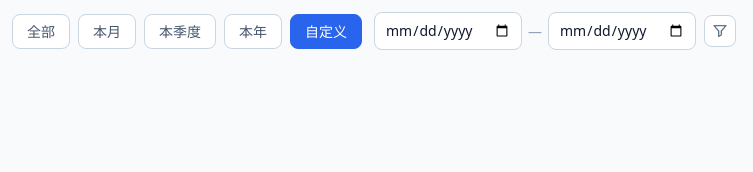
Test: DateFilter › 自定义预设下切换为其他预设后日期输入框消失
Expected: the date field named "开始日期" is shown, [374,12,522,50]
Click the button "全部" at [41, 31], box [12,14,70,48]
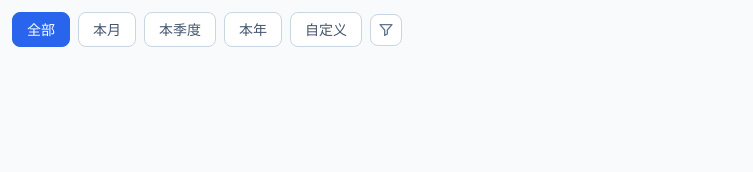
Expected: the date field labelled "开始日期" is gone
